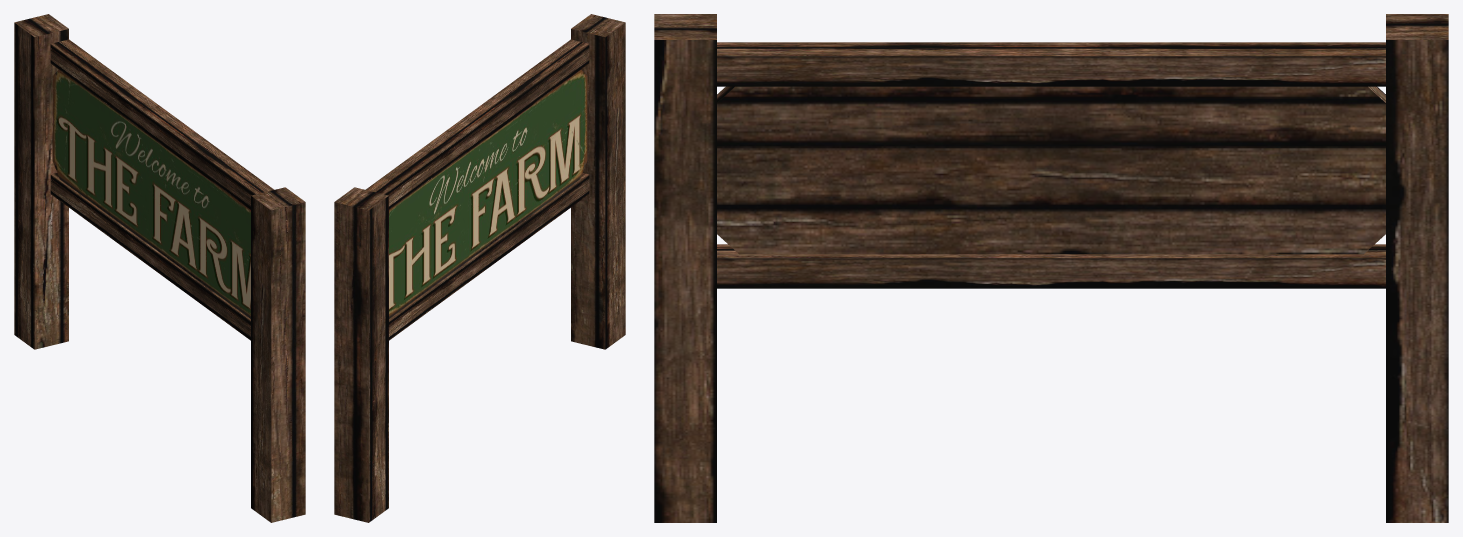
The model's file is farm-sign.fbx.
The picture shows the model from 3 angles, left to right: view 1: azimuth 30°, elevation 25°; view 2: azimuth 150°, elevation 25°; view 3: azimuth 270°, elevation 25°; orthographic projection. The views are drawn at different scales.
Parts seen in each view (by area): view 1: Plane.073; view 2: Plane.073; view 3: Plane.073.
Part boxes in pixels (<box>): Plane.073: <box>14,14,305,522</box>; Plane.073: <box>334,14,625,522</box>; Plane.073: <box>654,14,1448,522</box>.
Bounding box in the file's own units: 59.36 × 513 × 765.
